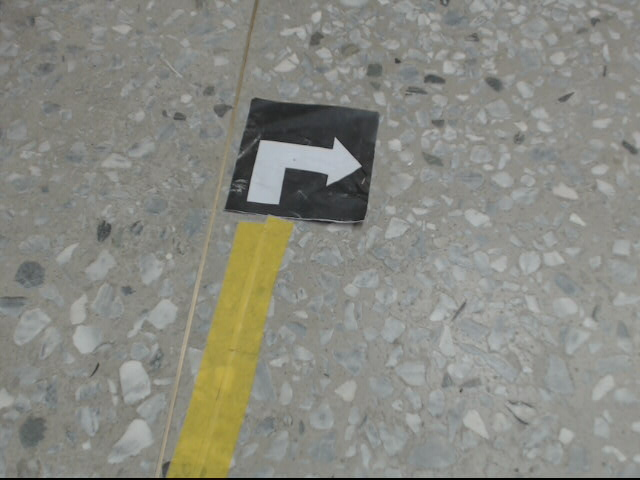right: (224, 98, 383, 225)
